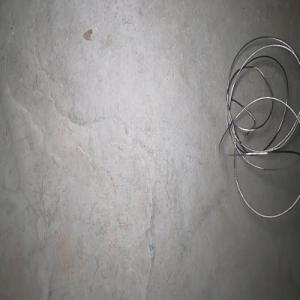Wire: (218, 36, 300, 218)
